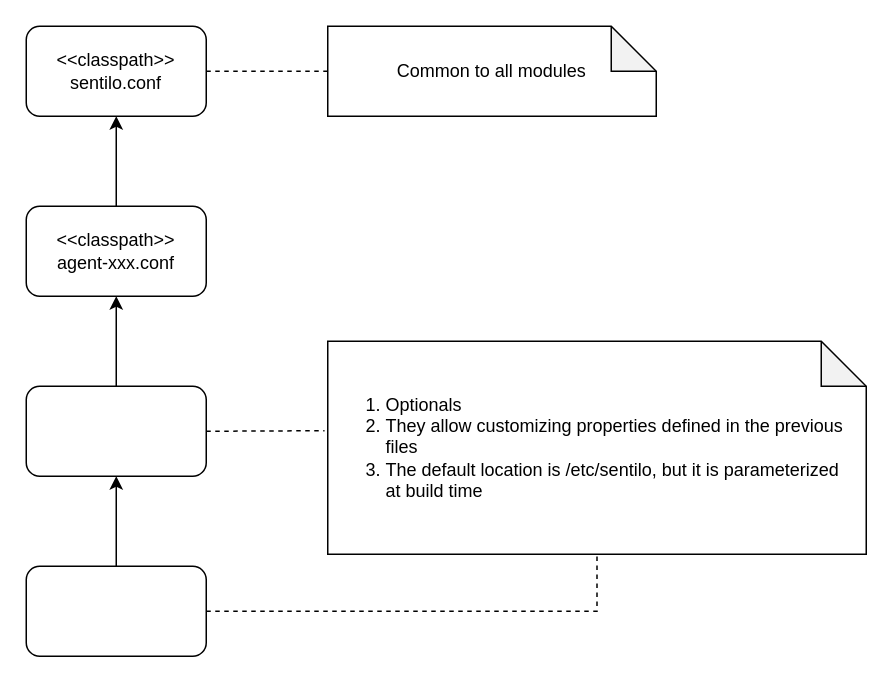
This 893x683 diagram has some shape labels left out. Each missing label, with the box of its shape:
<<file>> agent-xxx.conf: (25, 565, 206, 656)
<<file>> sentilo.conf: (25, 385, 206, 476)
